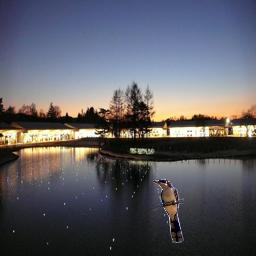Cuckoo: (152, 179, 184, 243)
